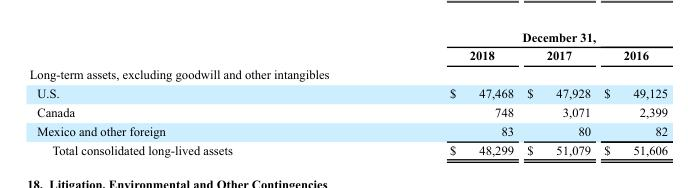table: (28, 29, 667, 156)
table column: (28, 29, 340, 156), (340, 29, 519, 156), (519, 29, 596, 156), (596, 29, 667, 156)
table column header: (28, 29, 667, 64)
table projected row header: (28, 64, 667, 83)
table row: (28, 45, 667, 64), (28, 64, 667, 83), (28, 83, 667, 102), (28, 102, 667, 121), (28, 121, 667, 140), (28, 29, 667, 45), (28, 140, 667, 156)
table spanning cell: (340, 29, 667, 45)
